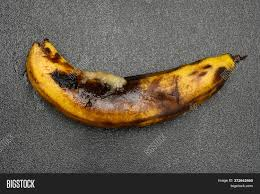looks_defective: (9, 26, 260, 173)
